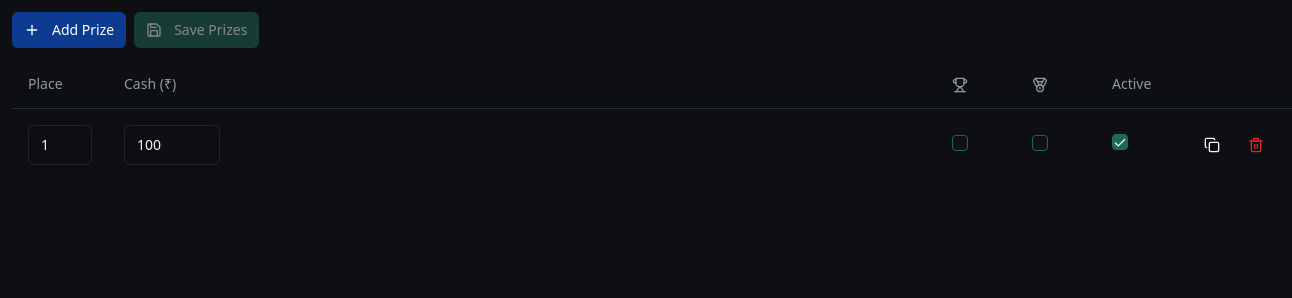
TeamGroupPrizesTable hydration gating › keeps dirty draft rows when parent rerenders with equivalent initial prizes
This screenshot has width=1292, height=298.
Later steps or results of the test are not shown.
What coordinates should you click on to do the following:
click the button "Add Prize"
I would click on:
 (69, 30)
Its box is [12, 12, 126, 48].
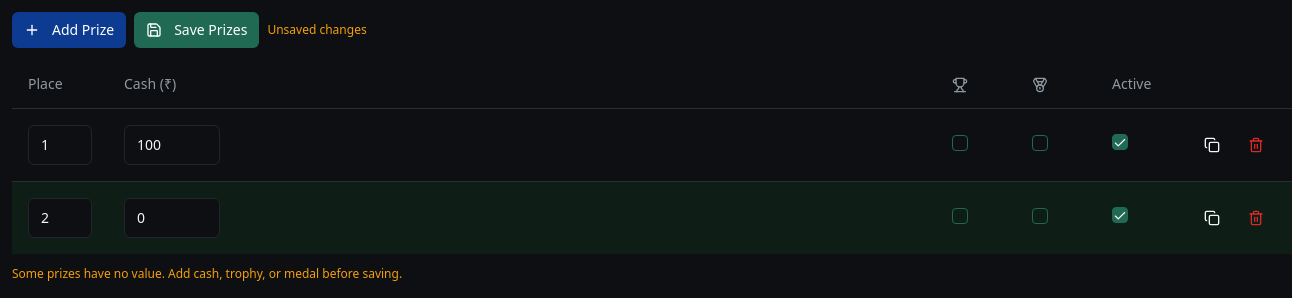
Check: the number of number fields is 4, box [28, 124, 92, 164]; [124, 124, 220, 164]; [28, 198, 92, 238]; [124, 198, 220, 238]
Check: the text "Unsaved changes" is shown, box [267, 22, 367, 38]
